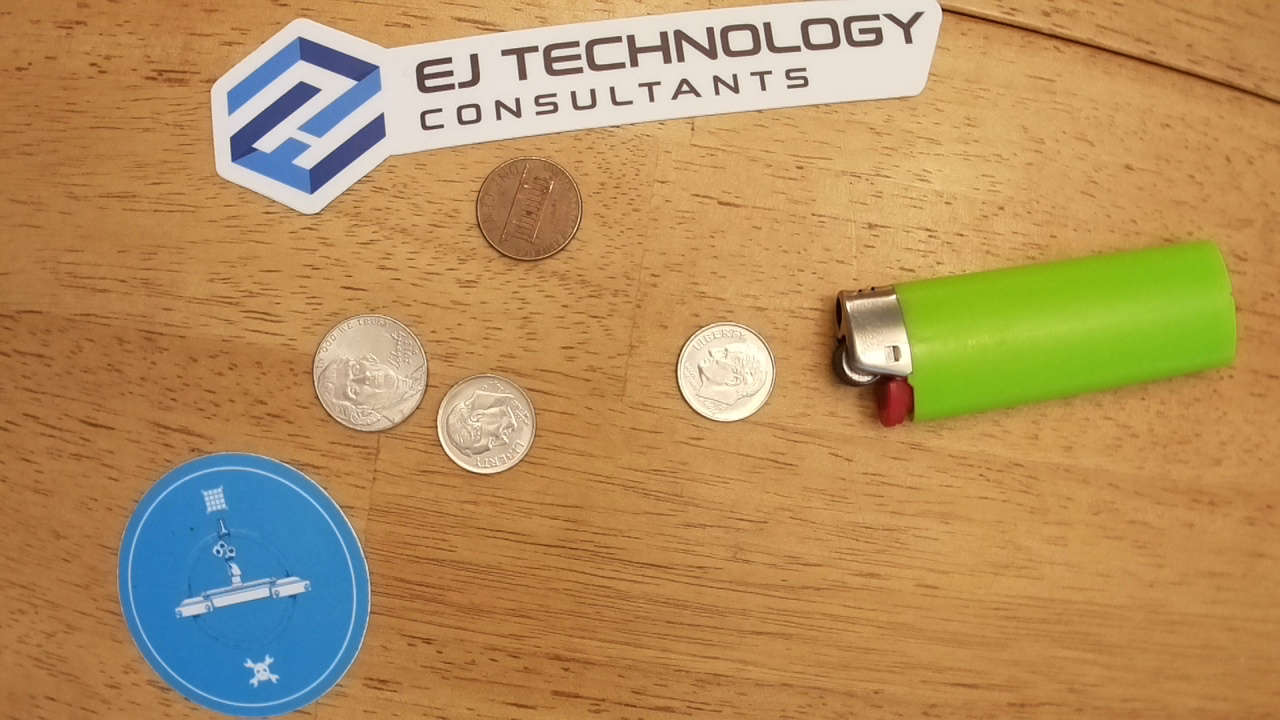dime: (434, 370, 536, 480), (674, 319, 776, 425)
nickel: (312, 308, 428, 432)
penny: (472, 153, 586, 265)
